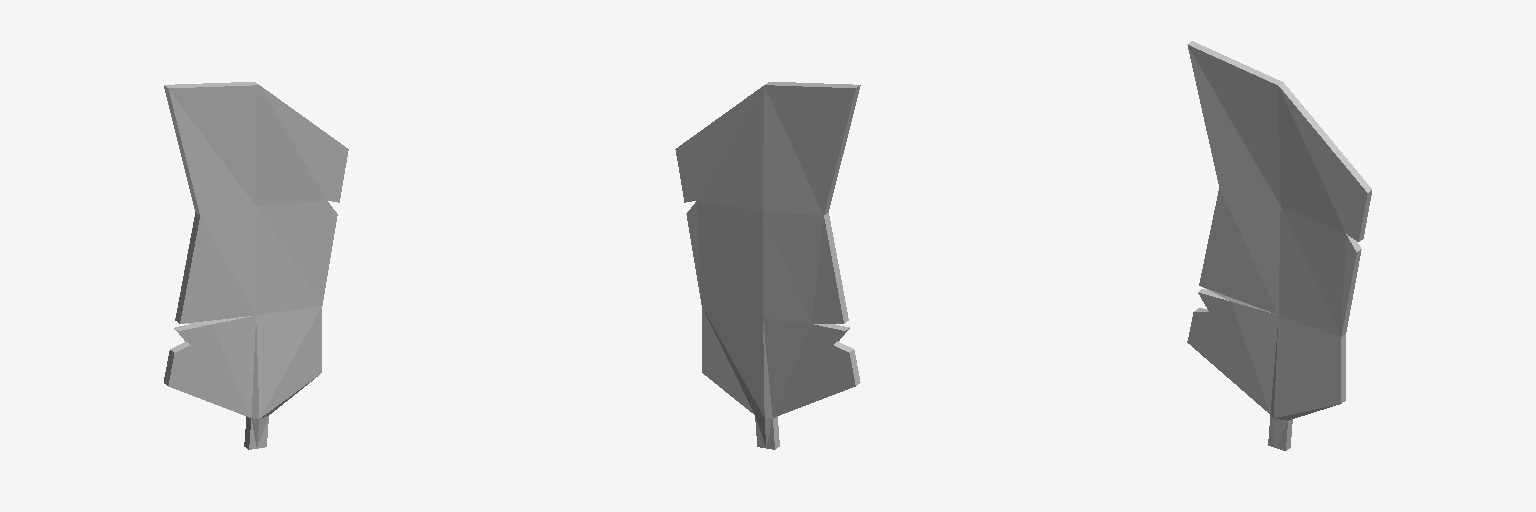
Rendered from pena.obj.
3 renders of one model, left to right at view 1: azimuth 30°, elevation 25°; view 2: azimuth 150°, elevation 25°; view 3: azimuth 330°, elevation 25°, orthographic.
Visible parts, largest first — view 1: Cube; view 2: Cube; view 3: Cube.
Part boxes in pixels (x1,y1,x2,y2): Cube: (164, 82, 348, 449); Cube: (675, 82, 860, 449); Cube: (1187, 41, 1371, 450).
Bounding box in the file's own units: 2 × 4.05 × 0.1889.